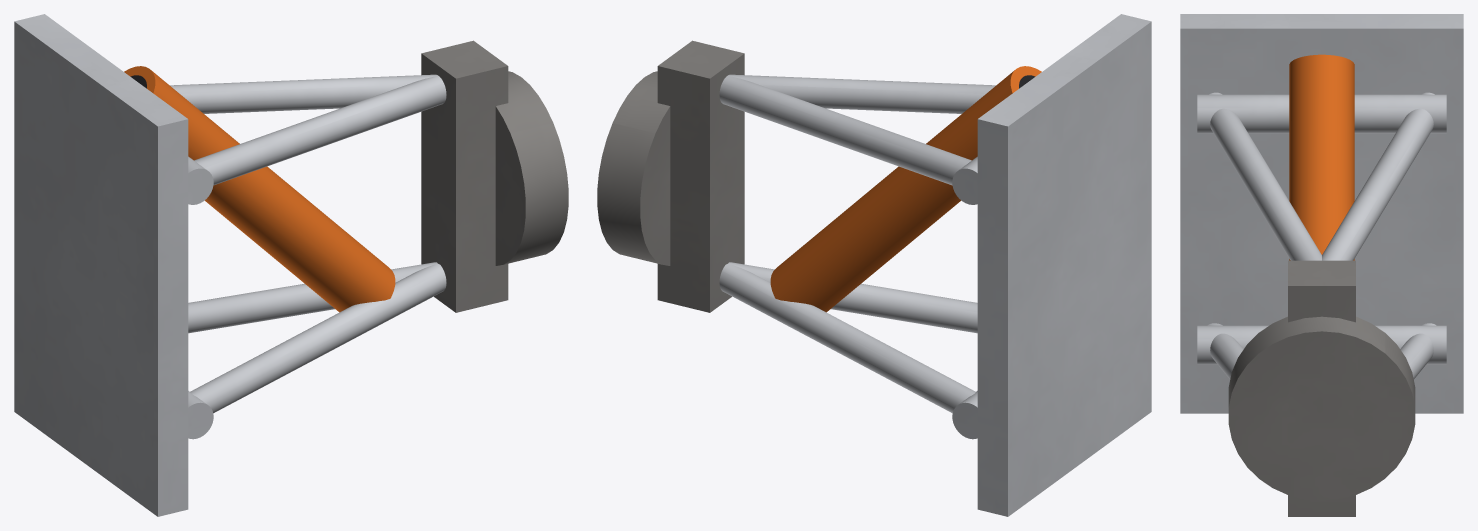
Rendered from rover17_suspension_arm_l.glb.
The picture shows the model from 3 angles, left to right: view 1: azimuth 30°, elevation 25°; view 2: azimuth 150°, elevation 25°; view 3: azimuth 270°, elevation 25°; orthographic projection.
Parts seen in each view (by area): view 1: mount_plate, arm_upright, spring, arm_upper, arm_lower; view 2: mount_plate, arm_upright, spring, arm_upper, arm_lower; view 3: mount_plate, arm_upright, arm_upper, spring, arm_lower.
Boxes of the visible parts, x1=… form: mount_plate: x1=14, y1=14, x2=188, y2=516; arm_upright: x1=421, y1=40, x2=568, y2=312; spring: x1=124, y1=66, x2=395, y2=312; arm_upper: x1=170, y1=74, x2=446, y2=204; arm_lower: x1=188, y1=262, x2=446, y2=439; mount_plate: x1=977, y1=14, x2=1151, y2=516; arm_upright: x1=597, y1=40, x2=744, y2=312; spring: x1=770, y1=66, x2=1041, y2=312; arm_upper: x1=719, y1=74, x2=995, y2=204; arm_lower: x1=719, y1=262, x2=977, y2=439; mount_plate: x1=1180, y1=14, x2=1463, y2=413; arm_upright: x1=1228, y1=260, x2=1415, y2=516; arm_upper: x1=1197, y1=92, x2=1446, y2=260; spring: x1=1289, y1=54, x2=1354, y2=260; arm_lower: x1=1197, y1=323, x2=1446, y2=379.
Size of the model in its own units: 0.7 by 0.6 by 0.4.
Materials: 4 (2 with a texture image).
